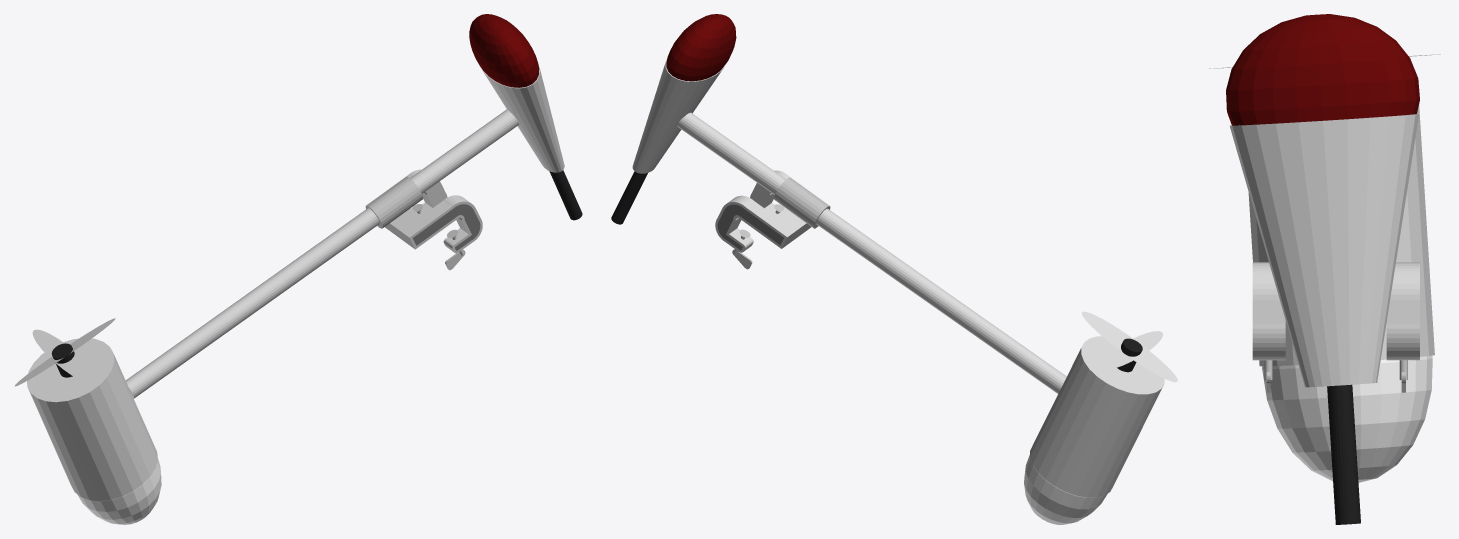
File: BassBoat-TrollingMotor.obj
3 renders of one model, left to right at view 1: azimuth 30°, elevation 25°; view 2: azimuth 150°, elevation 25°; view 3: azimuth 270°, elevation 25°, orthographic. The views are drawn at different scales.
Visible parts, largest first — view 1: TrollingMotor; view 2: TrollingMotor; view 3: TrollingMotor.
Boxes of the visible parts, x1=… form: TrollingMotor: x1=14, y1=14, x2=582, y2=524; TrollingMotor: x1=611, y1=14, x2=1177, y2=524; TrollingMotor: x1=1209, y1=14, x2=1440, y2=524.
Bounding box in the file's own units: 0.4138 × 0.2894 × 0.0783.
